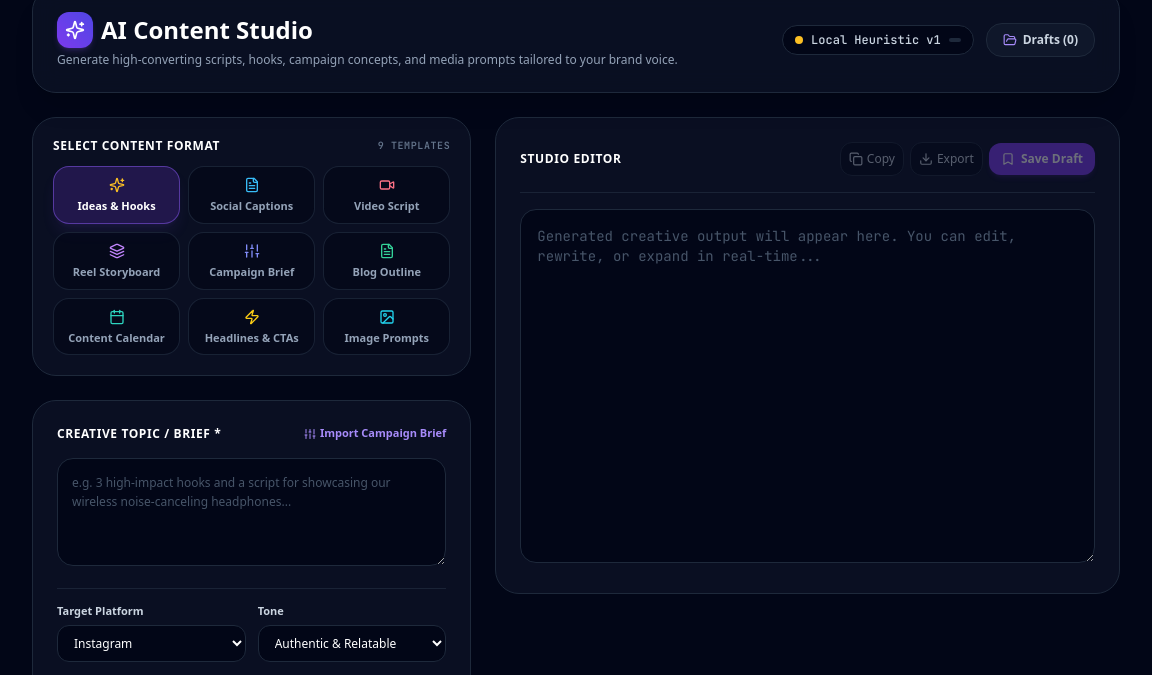
Phase 5: AI Content Studio Workspace Component › submits generation form and renders structured creative output
This screenshot has width=1152, height=675.
Replace the text in the text box with placeholder "e.g. 3 high-impact hooks" with "Spatial Audio Launch Campaign" at (252, 512), box [57,458,446,566]
(page scrolled)
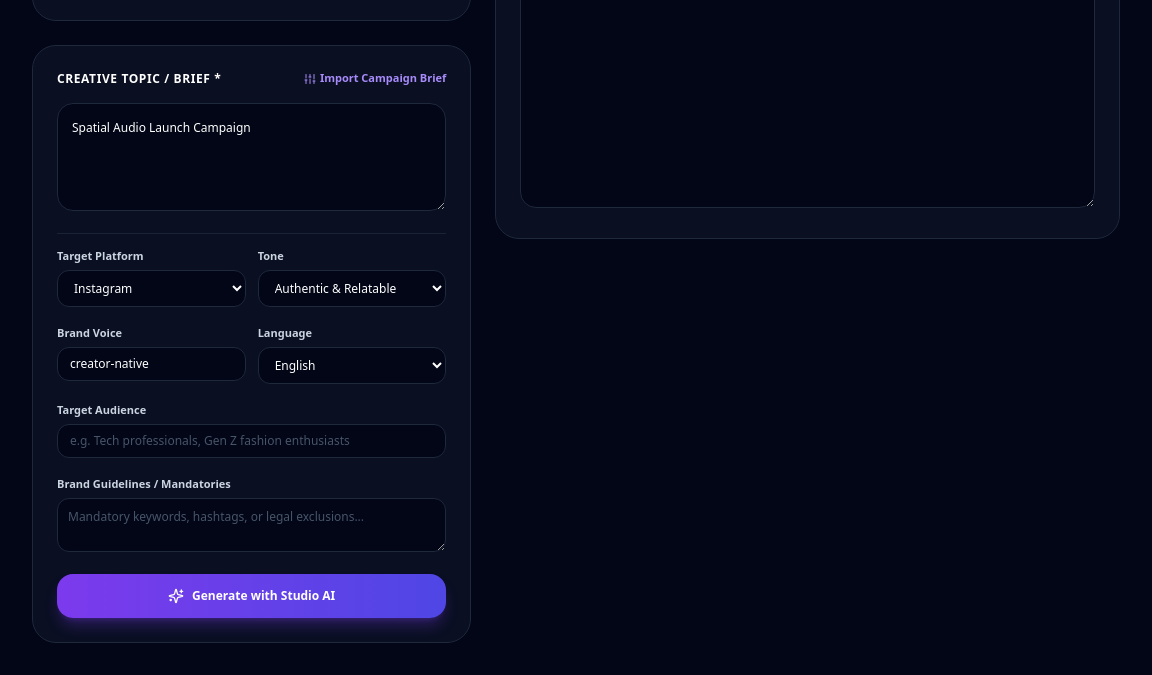
Click the button "Generate with Studio AI" at (252, 596), box [57,574,446,618]
(page scrolled)
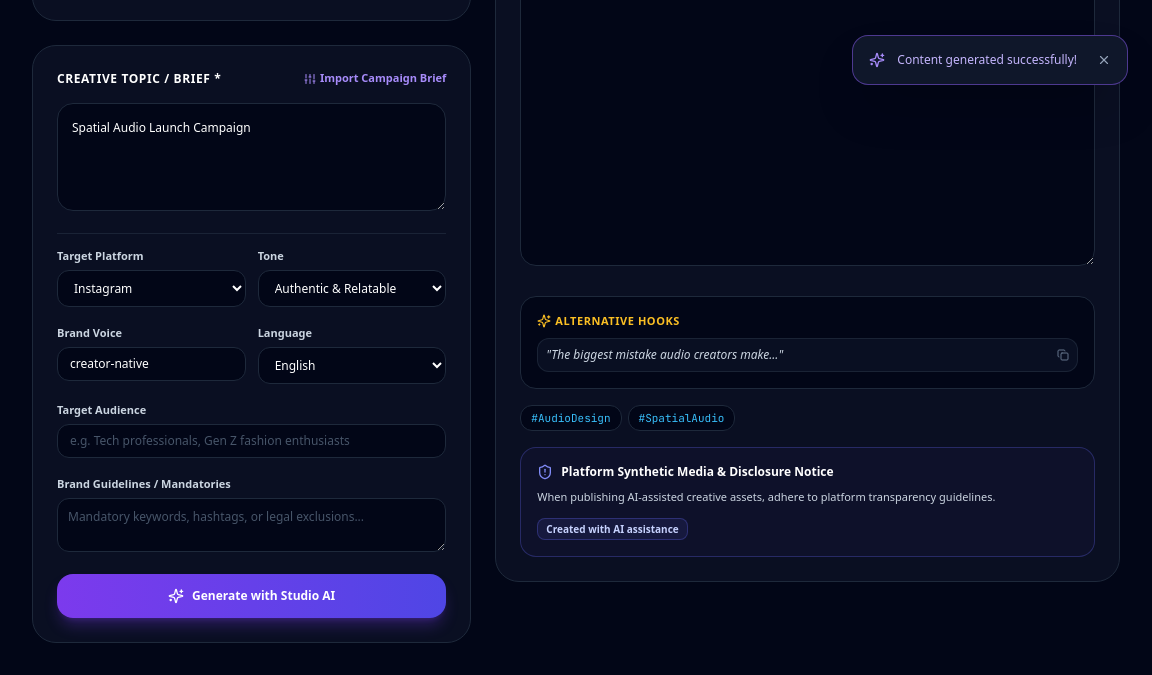
Check: the text "\"The biggest mistake audio creators make...\"" is shown, box [546,346,783,362]
Check: the text "#AudioDesign" is shown, box [520,404,622,431]
